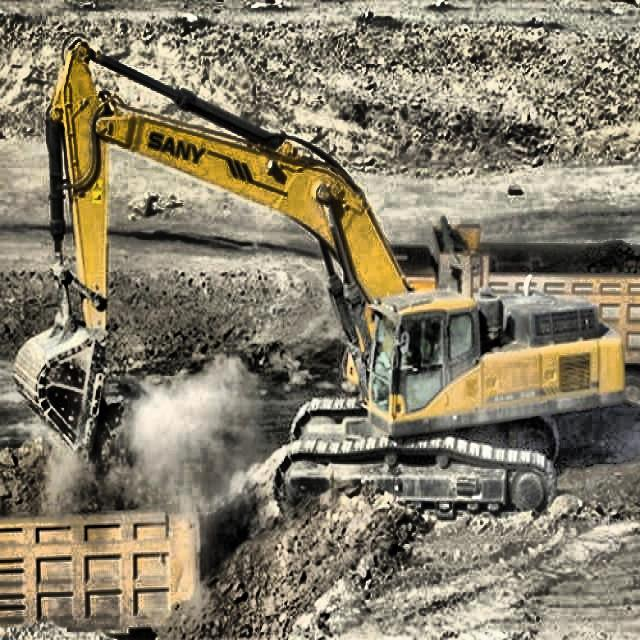excavator: (14, 36, 632, 522)
